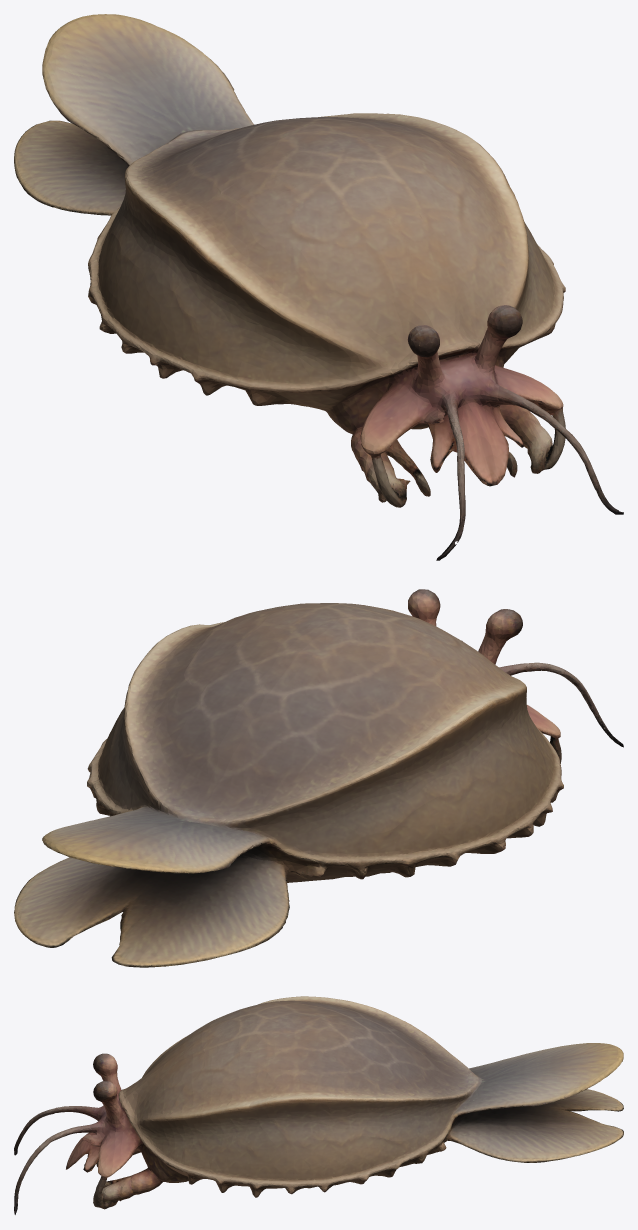
3 views of the same model, one above another, from view 1: azimuth 30°, elevation 25°; view 2: azimuth 150°, elevation 25°; view 3: azimuth 270°, elevation 25° (orthographic). The views are drawn at different scales.
Visible parts, largest first — view 1: world; view 2: world; view 3: world.
Boxes of the visible parts, left/top/right/bottom form: world: left=14, top=14, right=623, bottom=560; world: left=14, top=589, right=623, bottom=967; world: left=14, top=996, right=623, bottom=1214.
Bounding box in the file's own units: 0.529 × 0.3008 × 1.
1 material, 1 textured.
